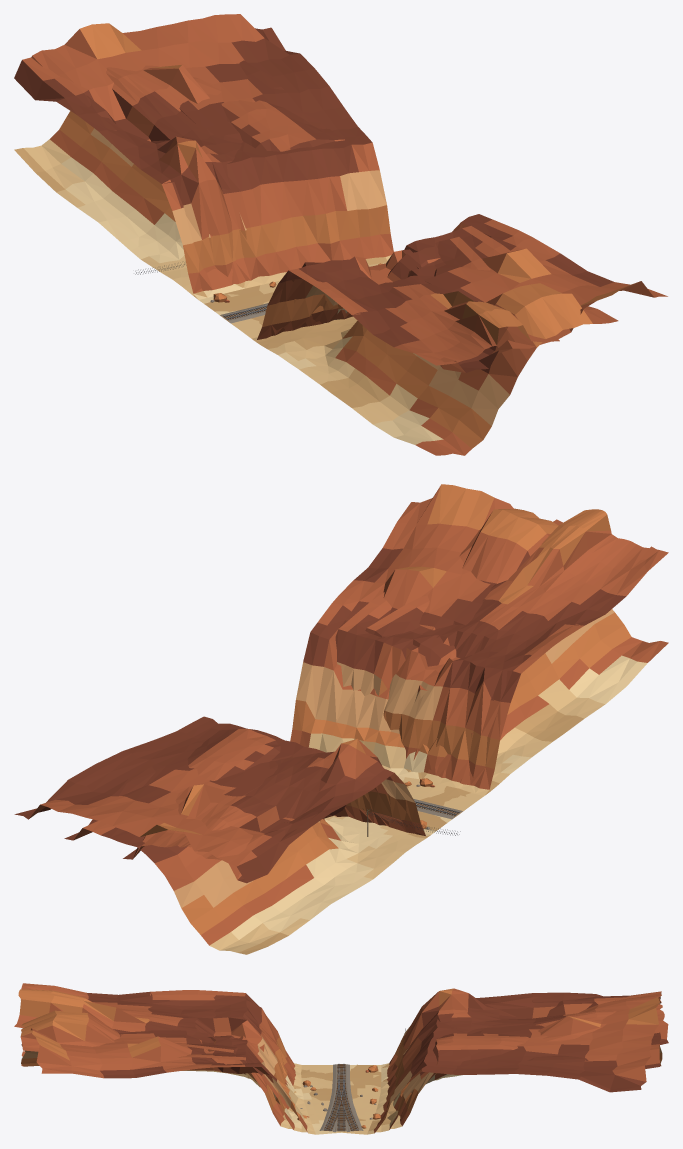
File: Joined_Chunck_CanyonDeep_Entry_A.fbx
3 views of the same model, one above another, from view 1: azimuth 30°, elevation 25°; view 2: azimuth 150°, elevation 25°; view 3: azimuth 270°, elevation 25° (orthographic). The views are drawn at different scales.
Parts seen in each view (by area): view 1: FG_Chunk_CanyonDeep_CurveR_A_SceneryNear, FG_Chunk_CanyonDeep_Entry_A_Track, FG_Chunk_CanyonDeep_CurveL_A_Ground; view 2: FG_Chunk_CanyonDeep_CurveR_A_SceneryNear, FG_Chunk_CanyonDeep_Entry_A_Track, FG_Chunk_CanyonDeep_CurveL_A_Ground; view 3: FG_Chunk_CanyonDeep_CurveR_A_SceneryNear, FG_Chunk_CanyonDeep_CurveL_A_Ground, FG_Chunk_CanyonDeep_Entry_A_Track.
Part boxes in pixels (x1,y1,x2,y2): FG_Chunk_CanyonDeep_CurveR_A_SceneryNear: (31, 14, 559, 365); FG_Chunk_CanyonDeep_Entry_A_Track: (14, 60, 618, 455); FG_Chunk_CanyonDeep_CurveL_A_Ground: (14, 57, 667, 372); FG_Chunk_CanyonDeep_CurveR_A_SceneryNear: (14, 509, 665, 882); FG_Chunk_CanyonDeep_Entry_A_Track: (64, 508, 668, 954); FG_Chunk_CanyonDeep_CurveL_A_Ground: (123, 484, 668, 882); FG_Chunk_CanyonDeep_CurveR_A_SceneryNear: (14, 984, 661, 1134); FG_Chunk_CanyonDeep_CurveL_A_Ground: (22, 983, 668, 1134); FG_Chunk_CanyonDeep_Entry_A_Track: (20, 1010, 662, 1132).
Bounding box in the file's own units: 7956 × 3513 × 20566.
